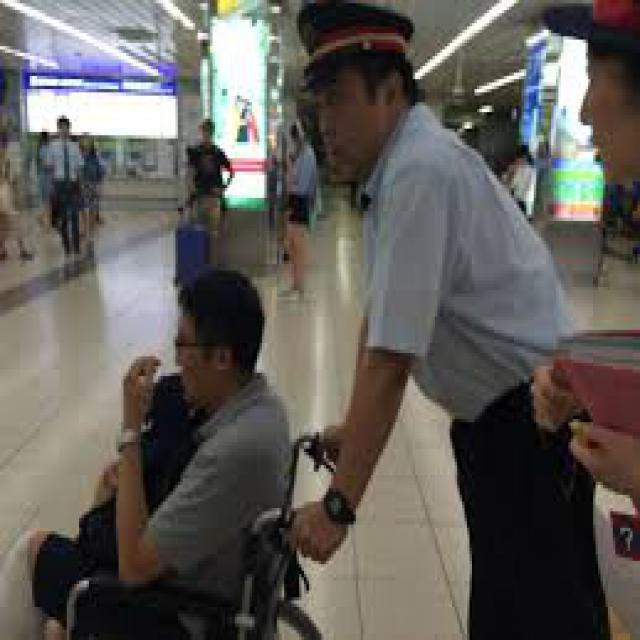wheelchairs: (8, 376, 374, 637)
